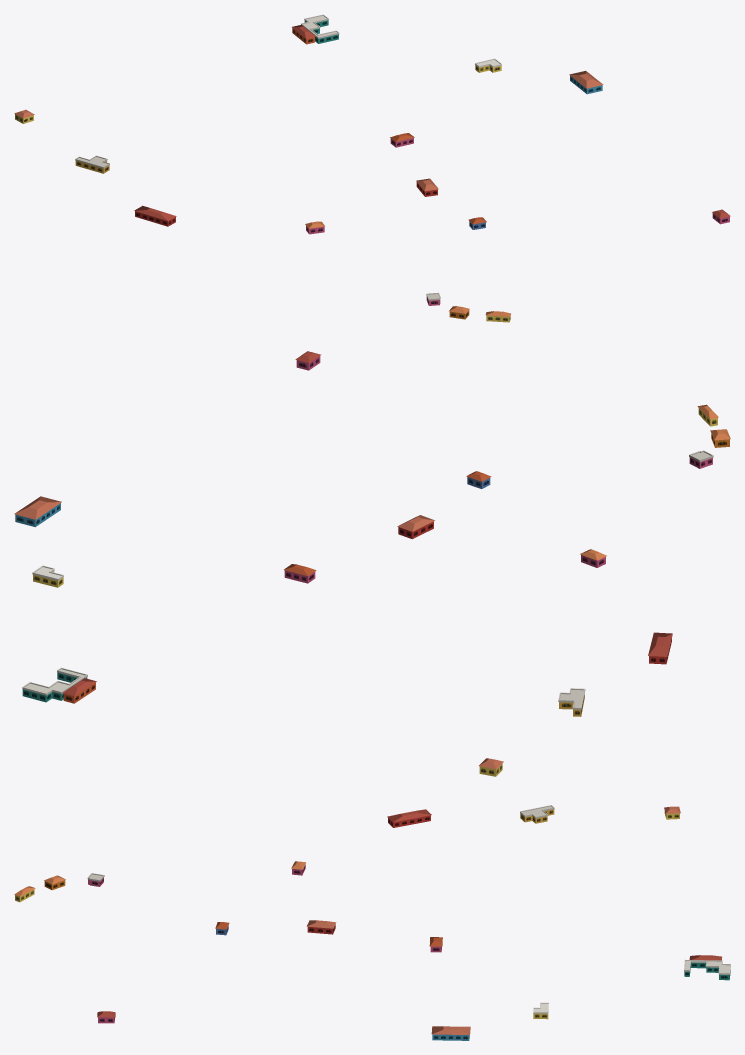
The model's file is msb_oranjestad_m17_1.glb.
3 renders of one model, top to bottom at view 1: azimuth 30°, elevation 25°; view 2: azimuth 150°, elevation 25°; view 3: azimuth 270°, elevation 25°, orthographic. The views are drawn at different scales.
Visible parts, largest first — view 1: msb_oranjestad_m17_1_lod0; view 2: msb_oranjestad_m17_1_lod0; view 3: msb_oranjestad_m17_1_lod0.
Part boxes in pixels (<box>): msb_oranjestad_m17_1_lod0: <box>14,14,730,322</box>; msb_oranjestad_m17_1_lod0: <box>14,351,730,776</box>; msb_oranjestad_m17_1_lod0: <box>14,805,730,1040</box>.
Size of what is drawn, in the model's own units: 287 by 10.06 by 371.
3 materials, 1 textured.
